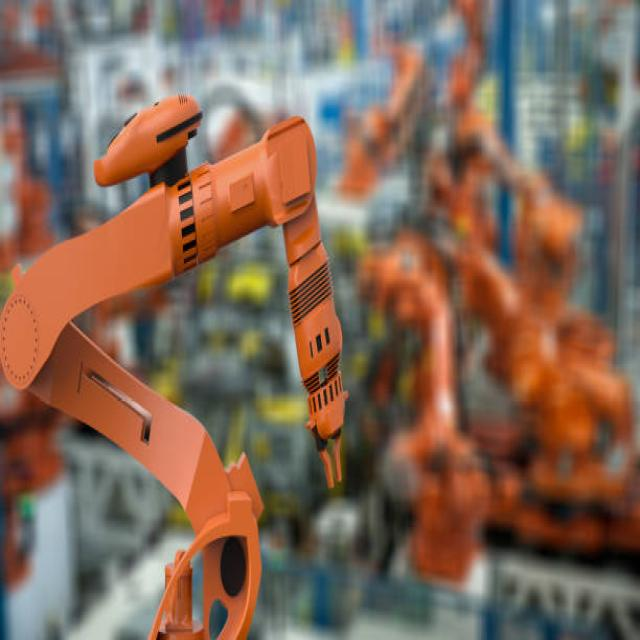Robotic-arm: (0, 80, 353, 640)
